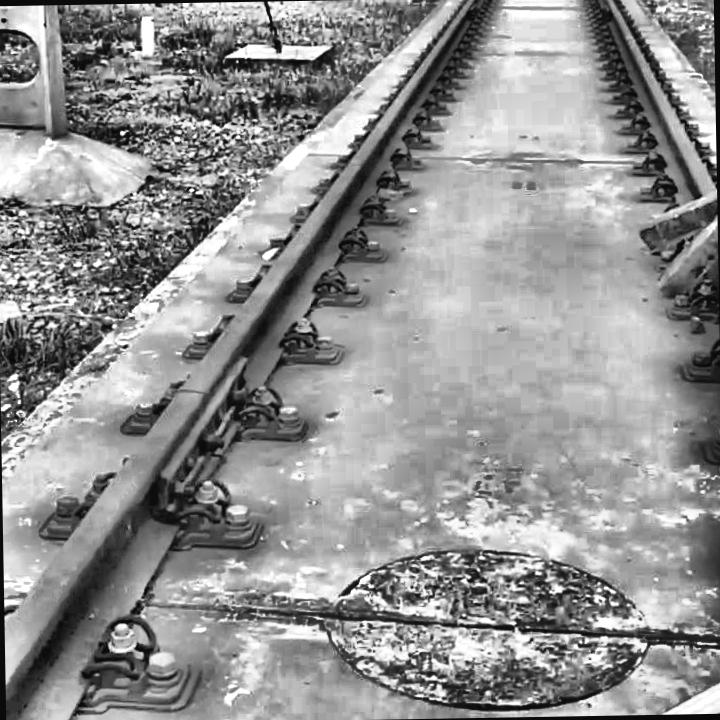Trash: (629, 182, 719, 294), (633, 665, 720, 715)
